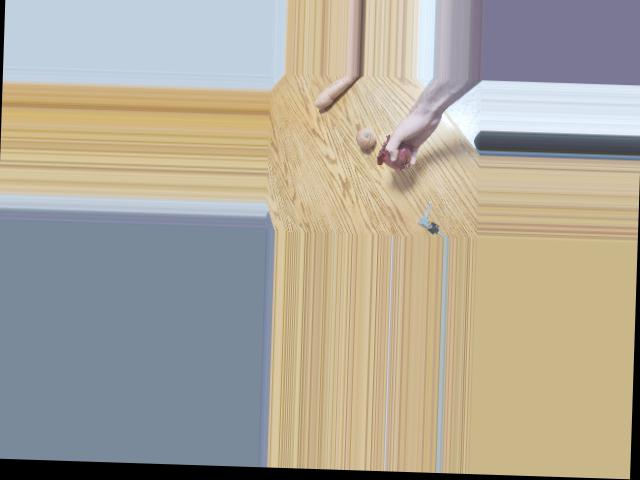onion: (357, 122, 383, 148)
